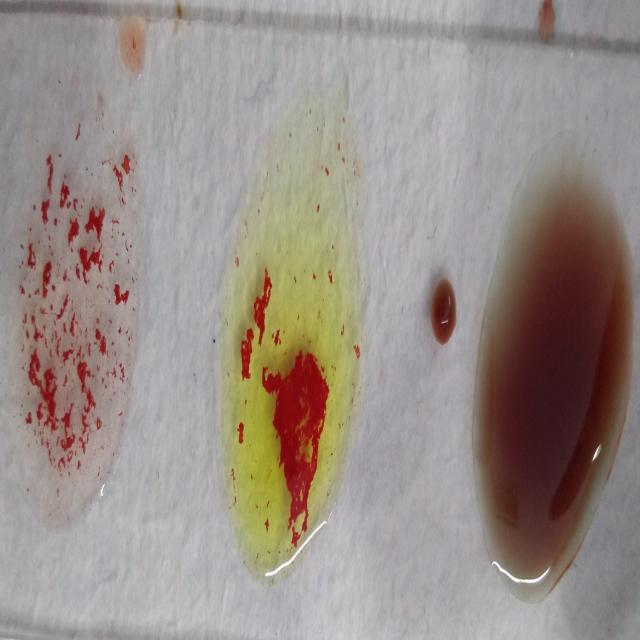B: (214, 94, 354, 581)
D: (2, 70, 136, 528)
